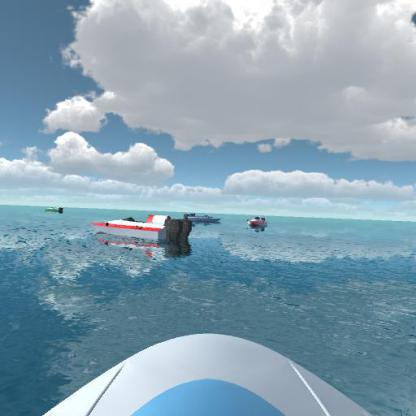usv0: (41, 202, 64, 216)
usv1: (177, 205, 221, 226)
usv3: (90, 212, 199, 257), (244, 209, 274, 237)
